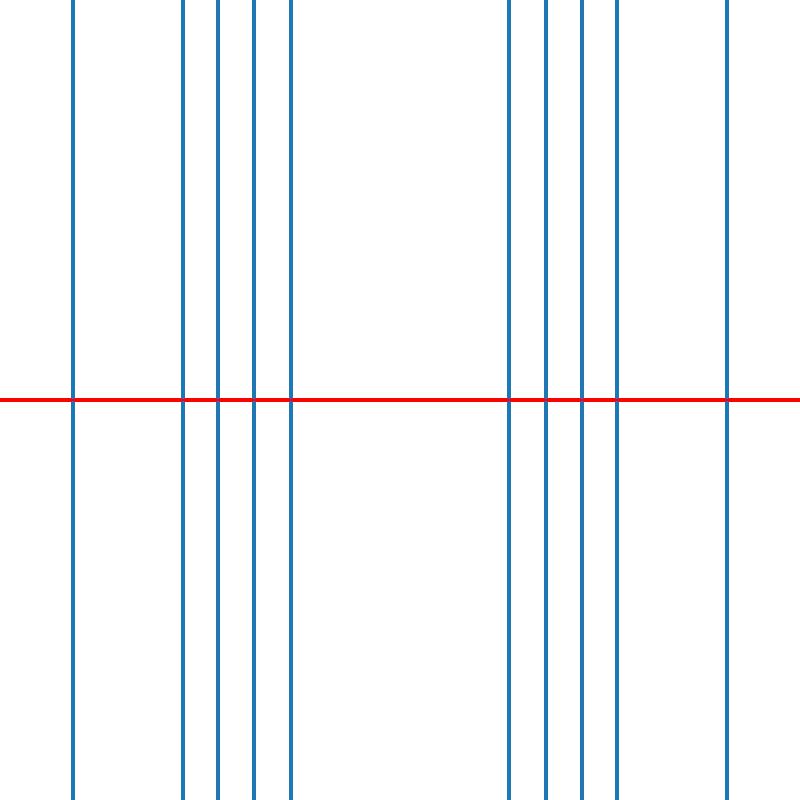root: (541, 396, 549, 404), (250, 396, 258, 404), (214, 396, 221, 404), (578, 396, 585, 404), (69, 396, 76, 404), (178, 396, 185, 404), (505, 396, 512, 404), (614, 396, 621, 404), (723, 396, 730, 404), (287, 396, 294, 404)
